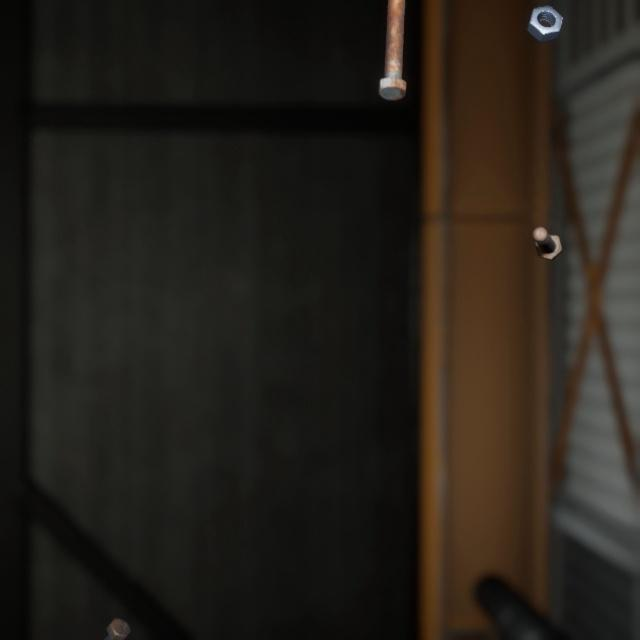bolt: (373, 0, 410, 97), (81, 589, 135, 640), (528, 206, 566, 249)
nut: (522, 0, 567, 38)
